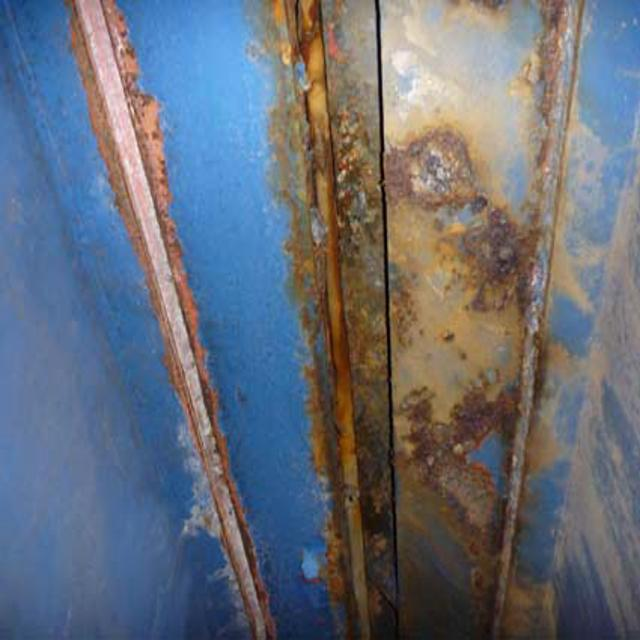corrosion: (288, 10, 553, 637), (63, 21, 268, 633)
